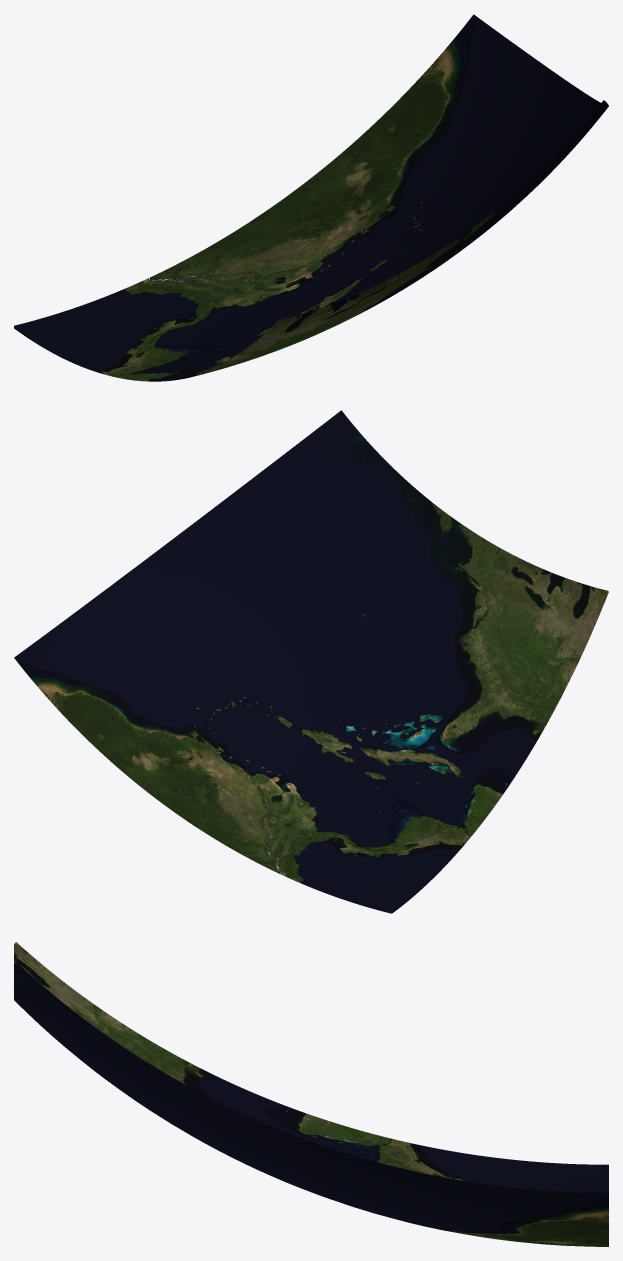
3 views of the same model, one above another, from view 1: azimuth 30°, elevation 25°; view 2: azimuth 150°, elevation 25°; view 3: azimuth 270°, elevation 25° (orthographic). The views are drawn at different scales.
Parts seen in each view (by area): view 1: DefaultName.005, DefaultName.007, DefaultName.003, DefaultName.001; view 2: DefaultName.003, DefaultName.005, DefaultName.001, DefaultName.007; view 3: DefaultName.005, DefaultName.003, DefaultName.007, DefaultName.001.
Part boxes in pixels (box(x1,y1,x2,y2)): DefaultName.005: box(263, 14, 581, 274); DefaultName.007: box(14, 213, 387, 381); DefaultName.003: box(387, 91, 608, 275); DefaultName.001: box(157, 241, 455, 381); DefaultName.003: box(161, 410, 463, 698); DefaultName.005: box(14, 548, 319, 820); DefaultName.001: box(320, 526, 608, 785); DefaultName.007: box(187, 699, 508, 913); DefaultName.005: box(287, 1133, 608, 1246); DefaultName.003: box(14, 962, 288, 1182); DefaultName.007: box(287, 1107, 608, 1192); DefaultName.001: box(14, 942, 288, 1131).
Size of the model in its own units: 45100 by 31962 by 44873.
4 materials, 4 textured.
